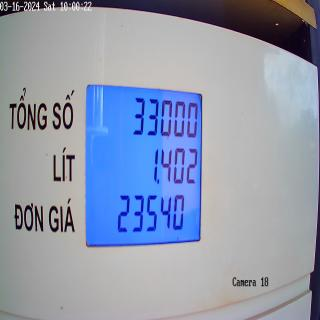screen: (82, 78, 204, 248)
